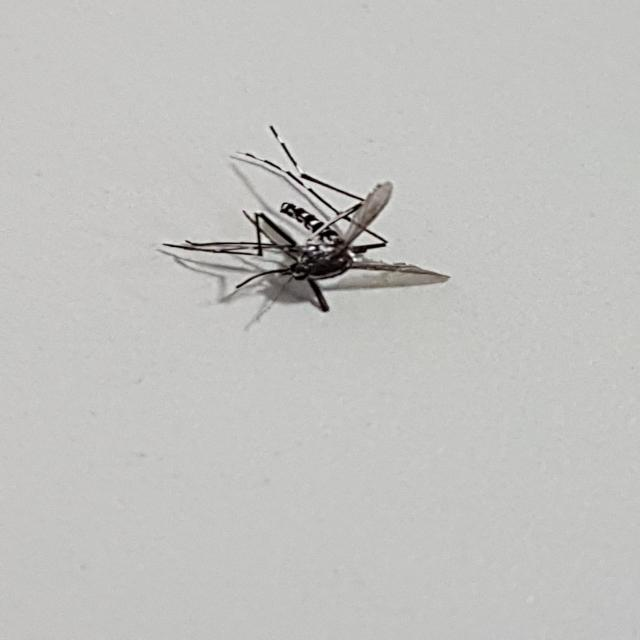albopictus: (144, 107, 440, 333)
